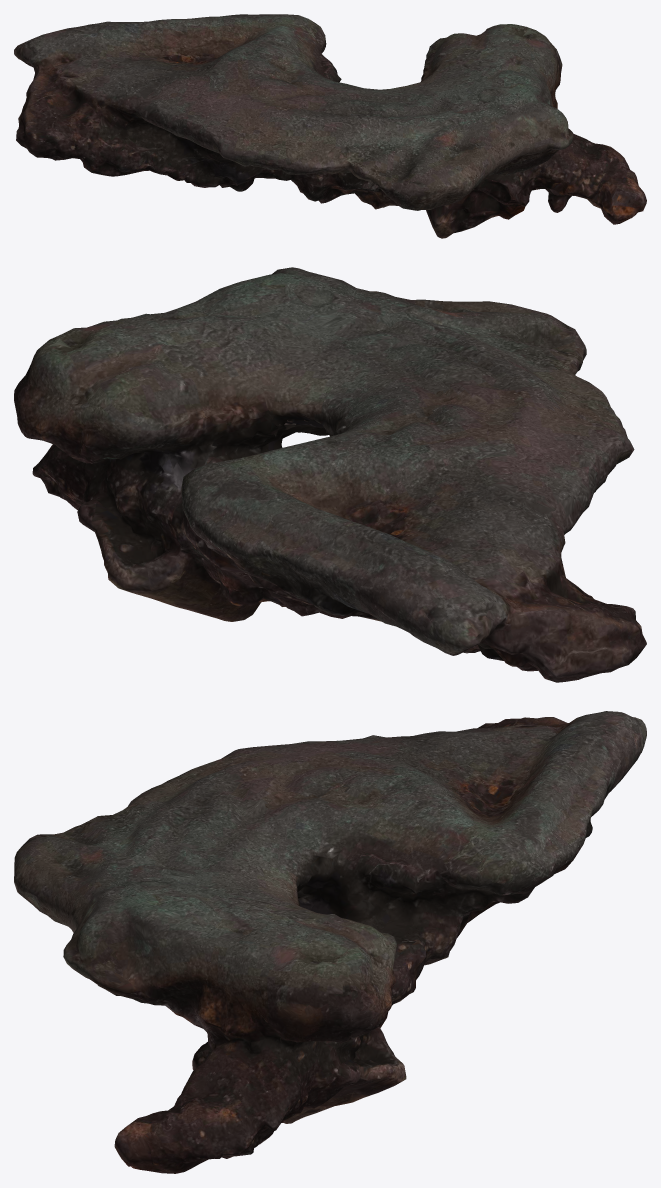
Rendered from deer_low_re.glb.
3 views of the same model, one above another, from view 1: azimuth 30°, elevation 25°; view 2: azimuth 150°, elevation 25°; view 3: azimuth 270°, elevation 25° (orthographic). The views are drawn at different scales.
Parts seen in each view (by area): view 1: Model; view 2: Model; view 3: Model.
Part boxes in pixels (x1,y1,x2,y2): Model: [14, 14, 646, 238]; Model: [14, 267, 646, 682]; Model: [14, 711, 646, 1173].
Bounding box in the file's own units: 0.9801 × 0.3551 × 0.8217.
Materials: 1 (1 with a texture image).
